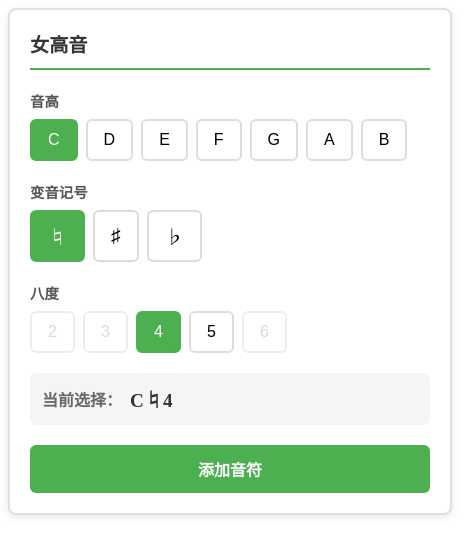
NoteInput 组件 › 应该显示当前选择的音符
This screenshot has width=470, height=535.
Expected: the text "C♮4" is shown, [130,385,173,413]
Click the button with test id "pitch-G".
click(274, 140)  # box [250,119,298,161]
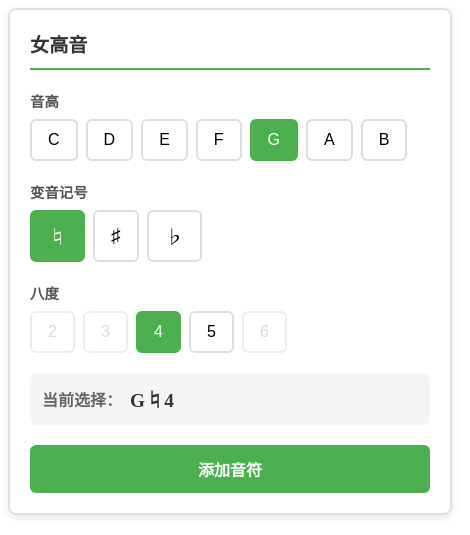
Click the button with test id "accidental-#".
click(116, 236)  # box [93,210,139,262]
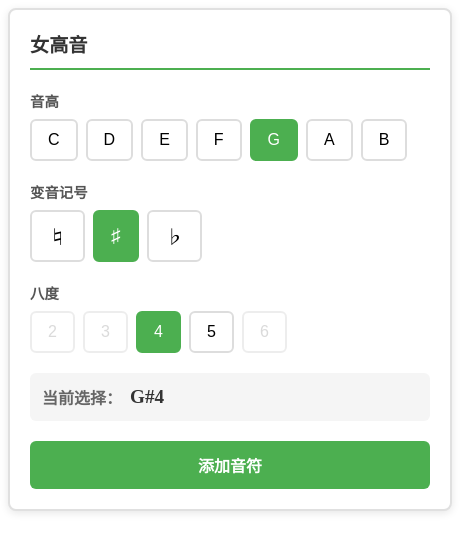
Click the button with test id "octave-5".
click(212, 332)  # box [189,311,234,353]
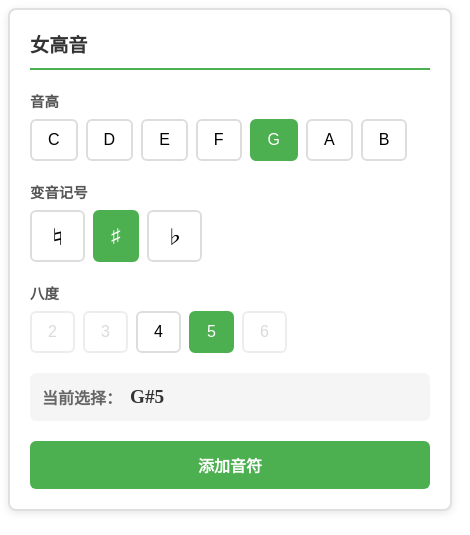
Result: the text "G#5" is shown at [130,386,164,408]
